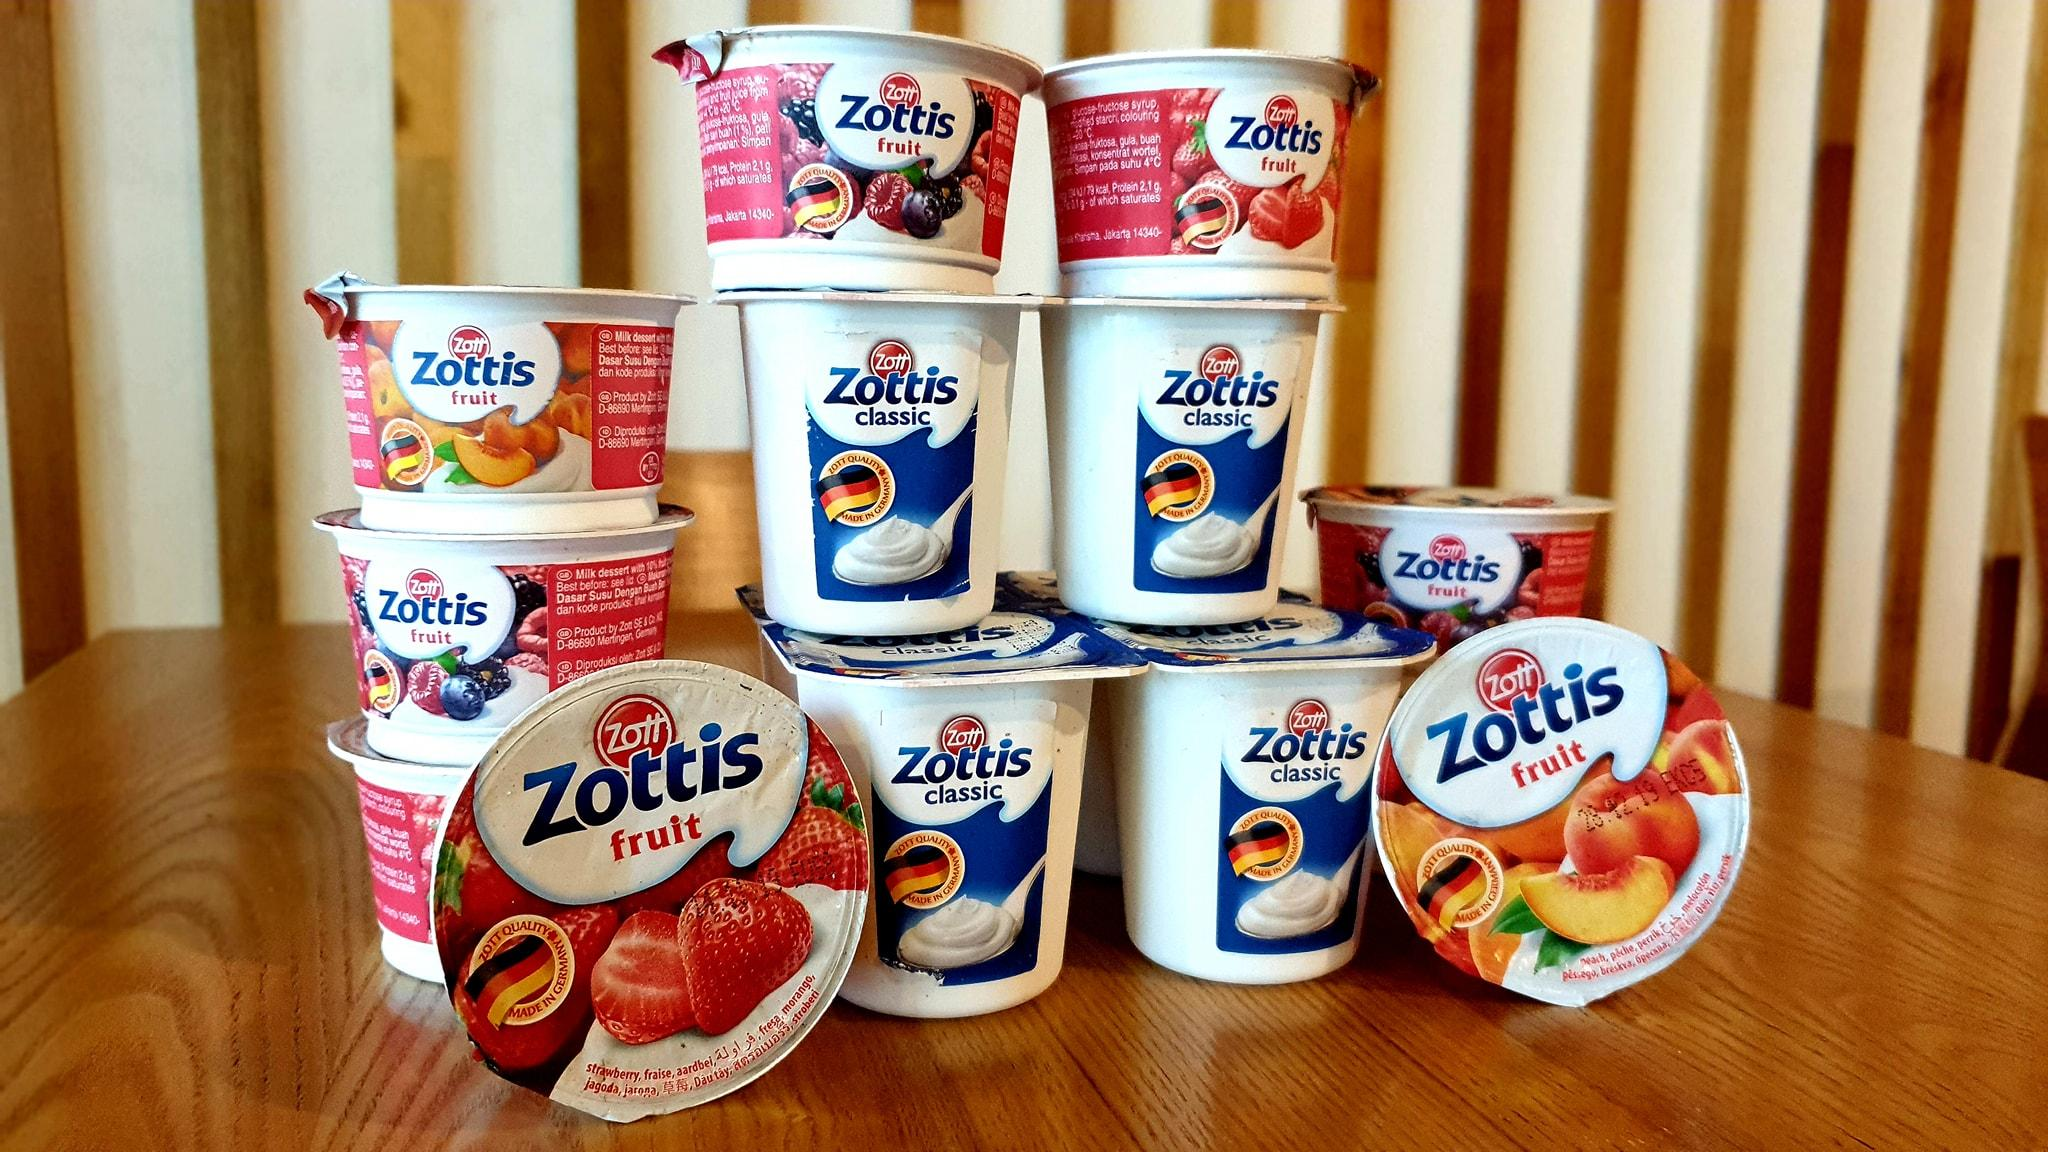metal: (433, 661, 869, 1120), (785, 615, 1092, 1017), (658, 25, 1051, 295)
plastic: (660, 25, 1038, 630), (433, 661, 869, 1120), (1044, 51, 1371, 625), (307, 274, 684, 758), (1374, 617, 1748, 1004), (762, 608, 1103, 1017), (740, 294, 1023, 634), (1115, 660, 1407, 983)
